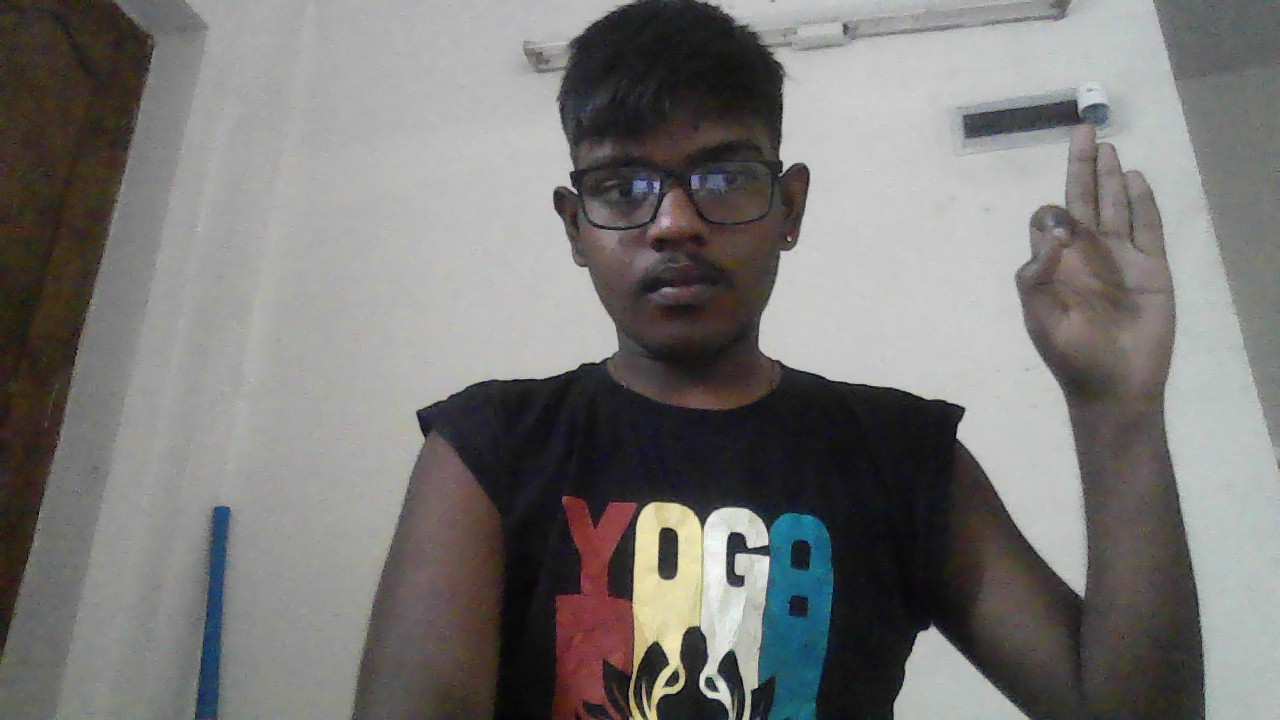F: (1015, 121, 1177, 409)
